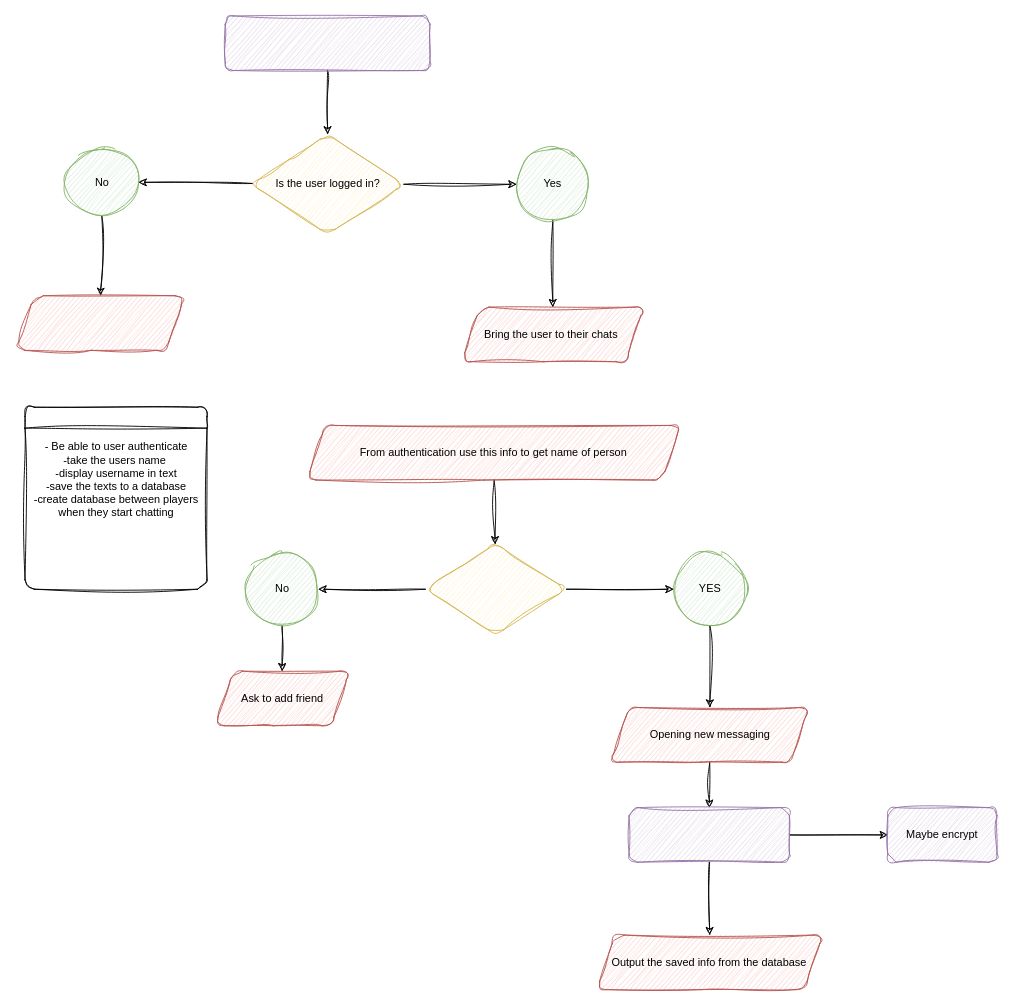
Some shapes in this 1014 by 1006 pixel diagram are drawn without their labels. Here are the shapes that lost their labels. From the top down, the box of each, then its label:
(224, 15, 430, 71): Check if user is logged in
(15, 295, 184, 350): Ask user to log in
(24, 406, 207, 589): Websocket Between People
(425, 543, 566, 635): Are they friends?
(628, 807, 789, 862): Create database for their conversation
